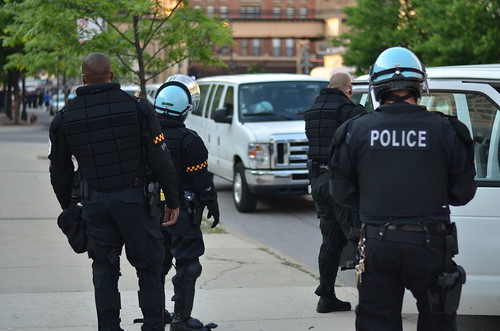building: (180, 1, 322, 79)
car: (193, 71, 327, 203)
policeman: (47, 66, 156, 331), (358, 55, 461, 331), (145, 83, 215, 331), (303, 78, 367, 316)
tree: (1, 1, 207, 90), (352, 1, 500, 64)
